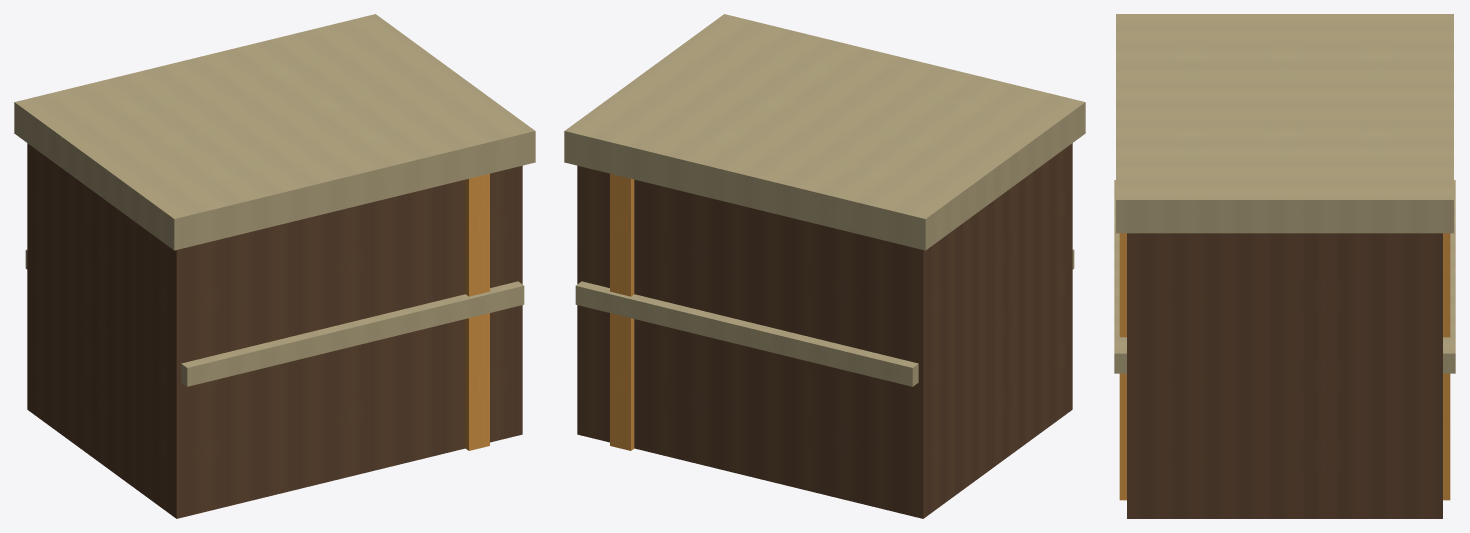
File: atlas100-clockwork-util02.lod2.glb
3 views of the same model, side by side, from view 1: azimuth 30°, elevation 25°; view 2: azimuth 150°, elevation 25°; view 3: azimuth 270°, elevation 25° (orthographic). The views are drawn at different scales.
Visible parts, largest first — view 1: atlas100-clockwork-util02:part-000, atlas100-clockwork-util02:part-005, atlas100-clockwork-util02:part-004, atlas100-clockwork-util02:part-002; view 2: atlas100-clockwork-util02:part-000, atlas100-clockwork-util02:part-005, atlas100-clockwork-util02:part-003, atlas100-clockwork-util02:part-002; view 3: atlas100-clockwork-util02:part-000, atlas100-clockwork-util02:part-005, atlas100-clockwork-util02:part-002, atlas100-clockwork-util02:part-003, atlas100-clockwork-util02:part-004.
Boxes of the visible parts, x1,y1,x2,y2 form: atlas100-clockwork-util02:part-000: (27,143,522,518); atlas100-clockwork-util02:part-005: (14,14,535,250); atlas100-clockwork-util02:part-004: (181,281,524,386); atlas100-clockwork-util02:part-002: (465,173,489,450); atlas100-clockwork-util02:part-000: (577,143,1072,518); atlas100-clockwork-util02:part-005: (564,14,1085,250); atlas100-clockwork-util02:part-003: (575,281,918,386); atlas100-clockwork-util02:part-002: (610,173,634,450); atlas100-clockwork-util02:part-000: (1127,233,1442,518); atlas100-clockwork-util02:part-005: (1116,14,1453,233); atlas100-clockwork-util02:part-002: (1119,233,1450,500); atlas100-clockwork-util02:part-003: (1443,180,1455,373); atlas100-clockwork-util02:part-004: (1114,180,1126,373).
Bounding box in the file's own units: 1.34 × 1.08 × 1.04.
3 materials, 3 textured.
